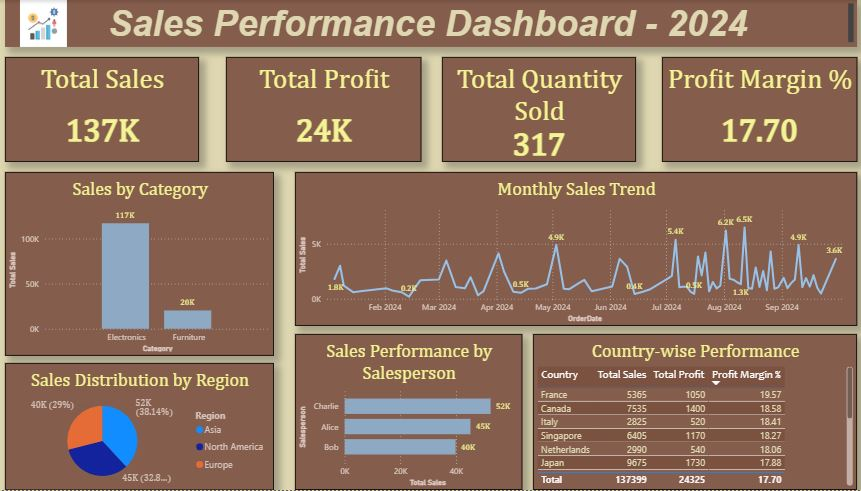

This screenshot's page, from the dashboard's own definition file:
{"tool":"powerbi","page":{"name":"Page 2","canvas":[1280,720],"ordinal":1},"visuals":[{"type":"card","title":"Total Sales","fields":{"Values":["Sales_Data.Total Sales"]},"box":[11.8,83.8,285.1,154.3],"z":0},{"type":"card","title":"Total Profit","fields":{"Values":["Sales_Data.Total Profit"]},"box":[336.5,83.8,286.5,154.3],"z":1000},{"type":"card","title":"Total Quantity Sold","fields":{"Values":["Sales_Data.Total Qty Sold"]},"box":[653.9,83.8,285.1,154.3],"z":2000},{"type":"card","title":"Profit Margin %","fields":{"Values":["Sales_Data.Profit Margin %"]},"box":[977.1,83.8,286.5,154.3],"z":3000},{"type":"clusteredColumnChart","title":" Sales by Category","fields":{"Category":["Sales_Data.Category"],"Y":["Sales_Data.Total Sales"]},"box":[11.8,252.7,395.3,270.4],"z":4000},{"type":"pieChart","title":"Sales Distribution by Region","fields":{"Y":["Sales_Data.Total Sales"],"Category":["Sales_Data.Region"]},"box":[12,533,395,187],"z":5000},{"type":"lineChart","title":"Monthly Sales Trend","fields":{"Y":["Sales_Data.Total Sales"],"Category":["Sales_Data.OrderDate"]},"box":[437.9,252.7,825.8,226.3],"z":6000},{"type":"clusteredBarChart","title":"Sales Performance by Salesperson","fields":{"Category":["Sales_Data.Salesperson"],"Y":["Sales_Data.Total Sales"]},"box":[437.9,490.8,333.6,229.2],"z":6001},{"type":"tableEx","title":"Country-wise Performance","fields":{"Values":["Sales_Data.Country","Sales_Data.Total Sales","Sales_Data.Total Profit","Sales_Data.Profit Margin %"]},"box":[787.6,490.8,476.1,229.2],"z":6002},{"type":"textbox","box":[11.8,0,1251.9,69.1],"z":6003},{"type":"image","box":[11.8,0,113.1,69.1],"z":6004}]}

Visuals, with their boxes in screenshot pixels (x1, y1, x2, y2), scaled from the page's 1280x720 canvas onto the 861x491 screenshot:
"Total Sales" card: (left=8, top=57, right=200, bottom=162)
"Total Profit" card: (left=226, top=57, right=419, bottom=162)
"Total Quantity Sold" card: (left=440, top=57, right=632, bottom=162)
"Profit Margin %" card: (left=657, top=57, right=850, bottom=162)
" Sales by Category" clusteredColumnChart: (left=8, top=172, right=274, bottom=357)
"Sales Distribution by Region" pieChart: (left=8, top=363, right=274, bottom=490)
"Monthly Sales Trend" lineChart: (left=295, top=172, right=850, bottom=327)
"Sales Performance by Salesperson" clusteredBarChart: (left=295, top=335, right=519, bottom=490)
"Country-wise Performance" tableEx: (left=530, top=335, right=850, bottom=490)
textbox: (left=8, top=0, right=850, bottom=47)
image: (left=8, top=0, right=84, bottom=47)
